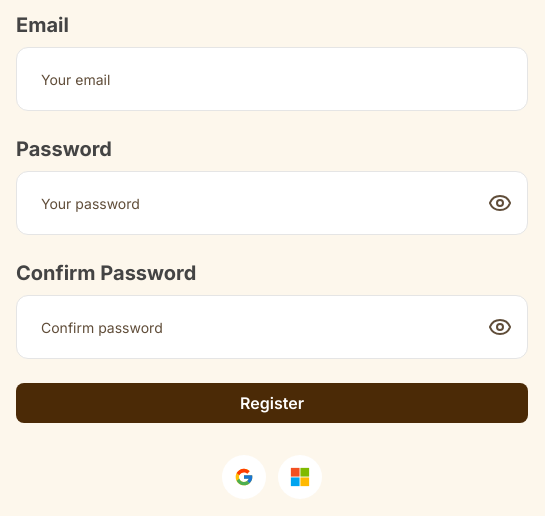
Test: RegisterForm › shows OTP verification step after successful registration
Note: Use a password that meets all requirements
Type "test@example.com" into the field labelled "Email". click: (272, 79)
box: [16,47,528,111]
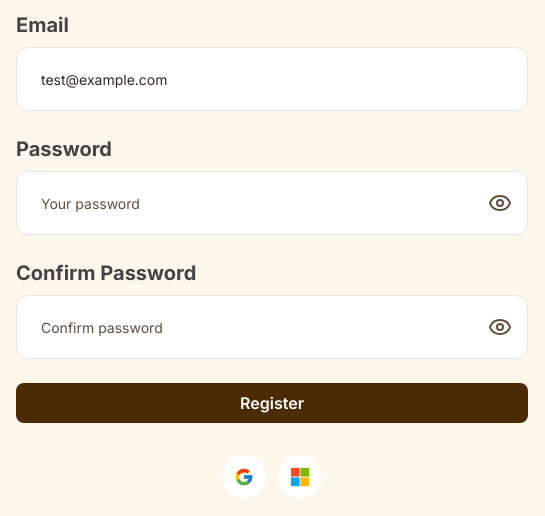
Type "Password123!" into the password field with placeholder "Your password". click: (272, 203)
box: [16,171,528,235]
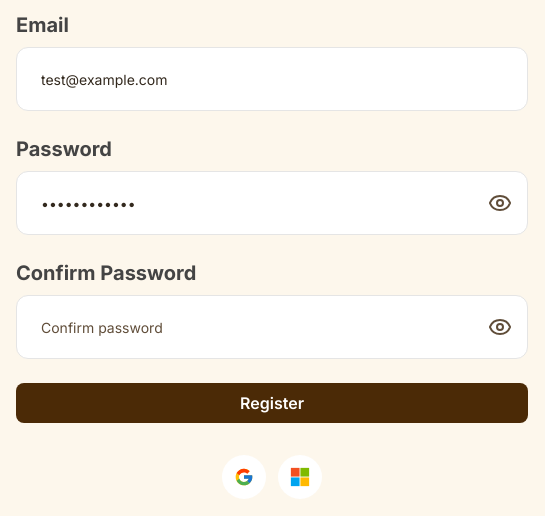
Type "Password123!" into the password field with placeholder "Confirm password". click: (272, 327)
box: [16,295,528,359]
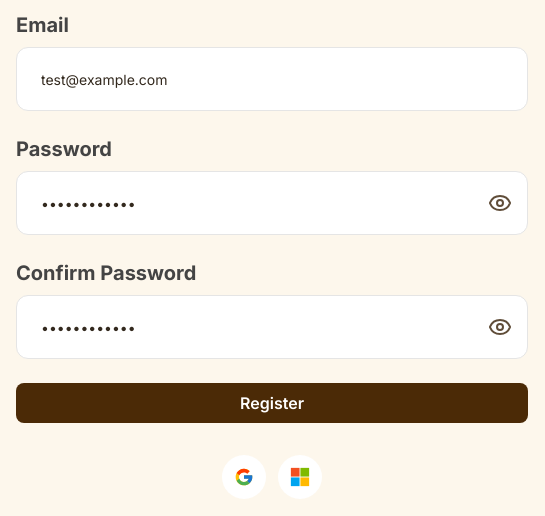
Click the button "Register". click: click(272, 403)
box: [16,383,528,423]
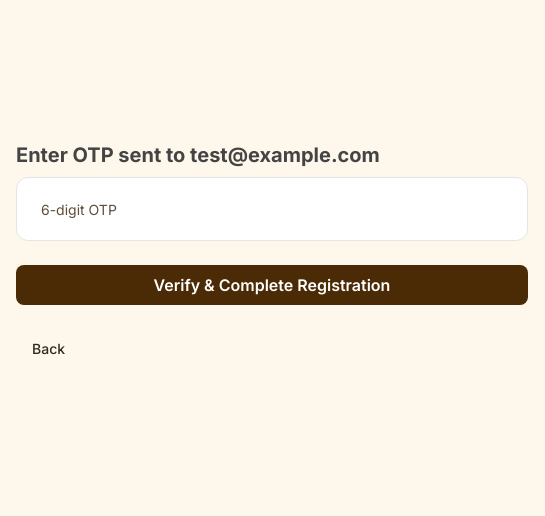
Expected: the text "Enter OTP sent to test@example.com" is shown, [16,143,380,167]
Expected: the field with placeholder "6-digit OTP" is shown, [16,177,528,241]
